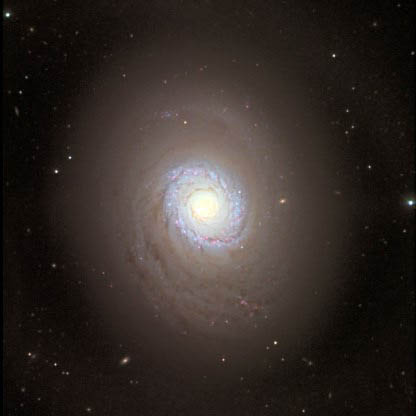Messier 94: (48, 20, 373, 390)
